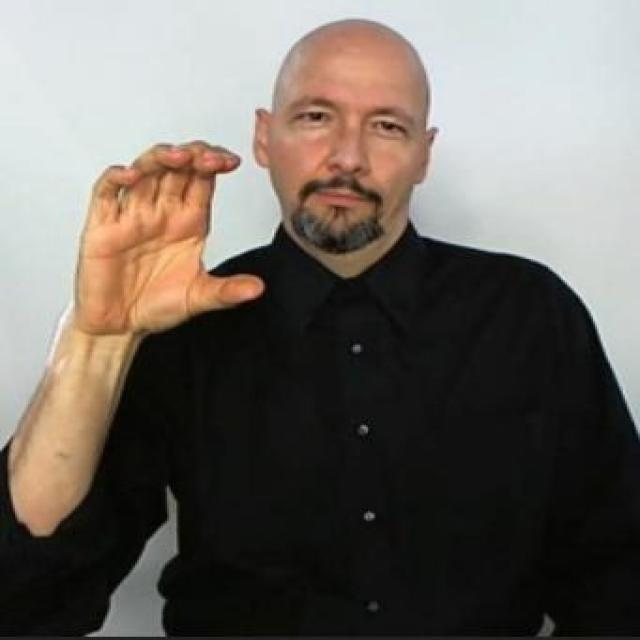C: (68, 135, 266, 336)
